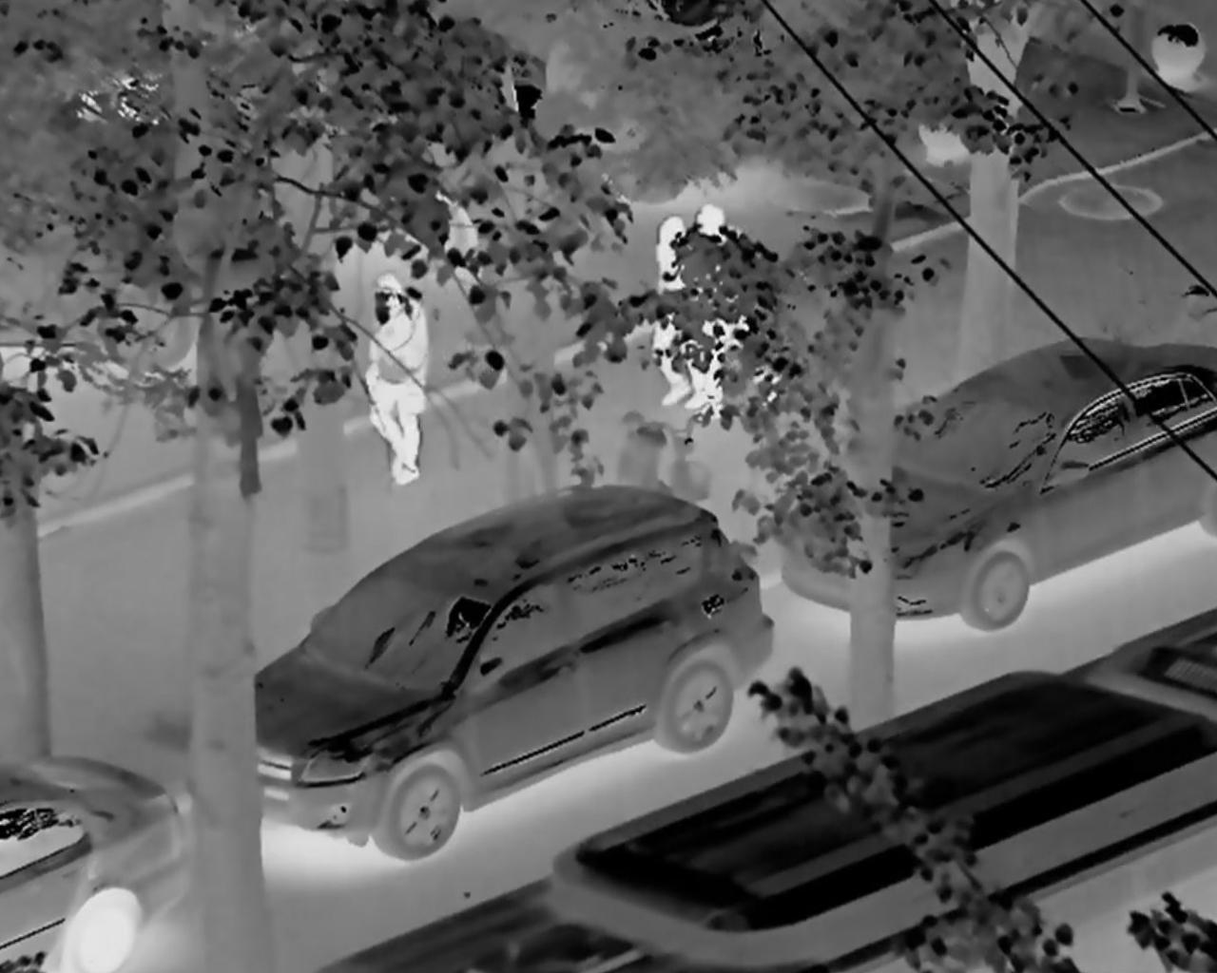person: (351, 264, 436, 484), (682, 174, 746, 421), (648, 184, 700, 408)
